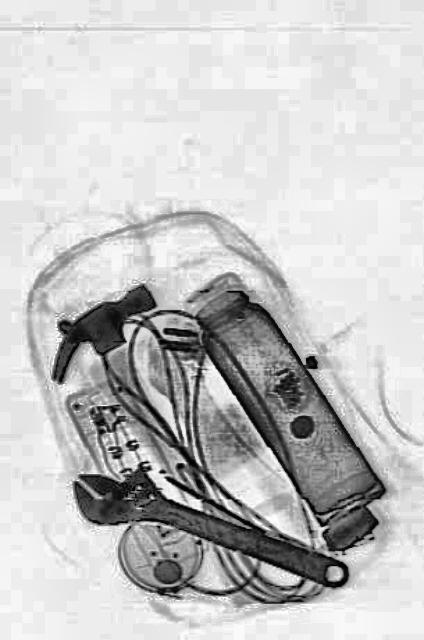Wrench: (65, 446, 352, 610)
